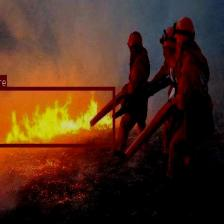fire: (0, 86, 115, 146)
